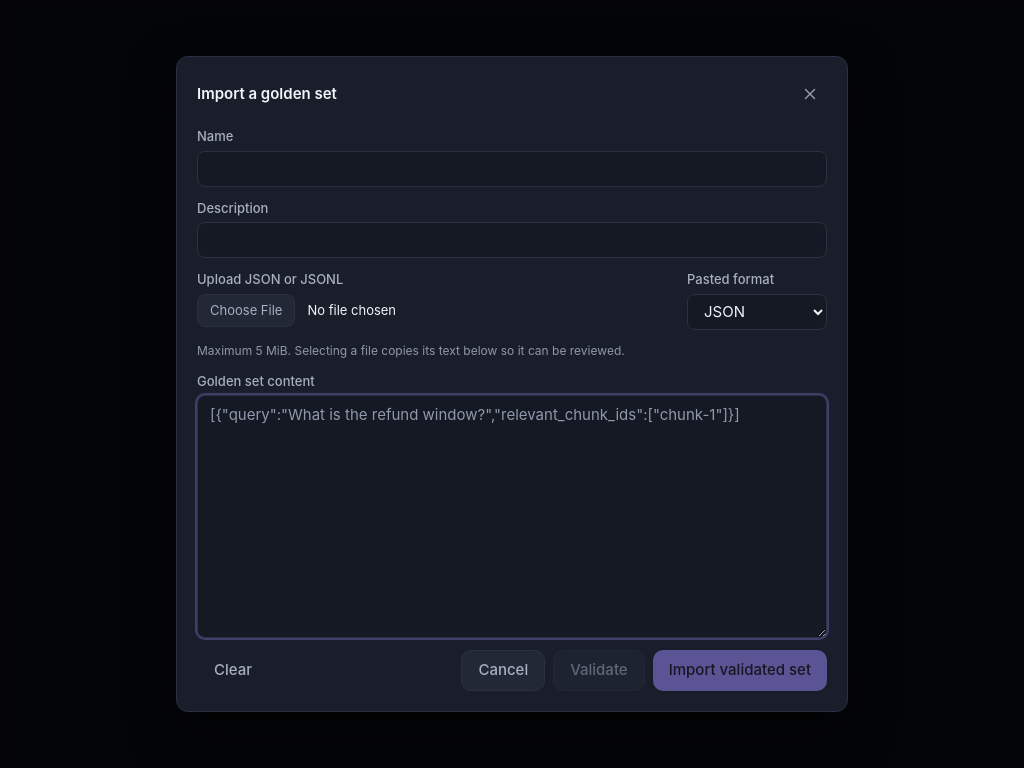
Test: GoldenSetImporter › shows chunk readiness and non-blocking file fallback warnings
Type keys "{}"
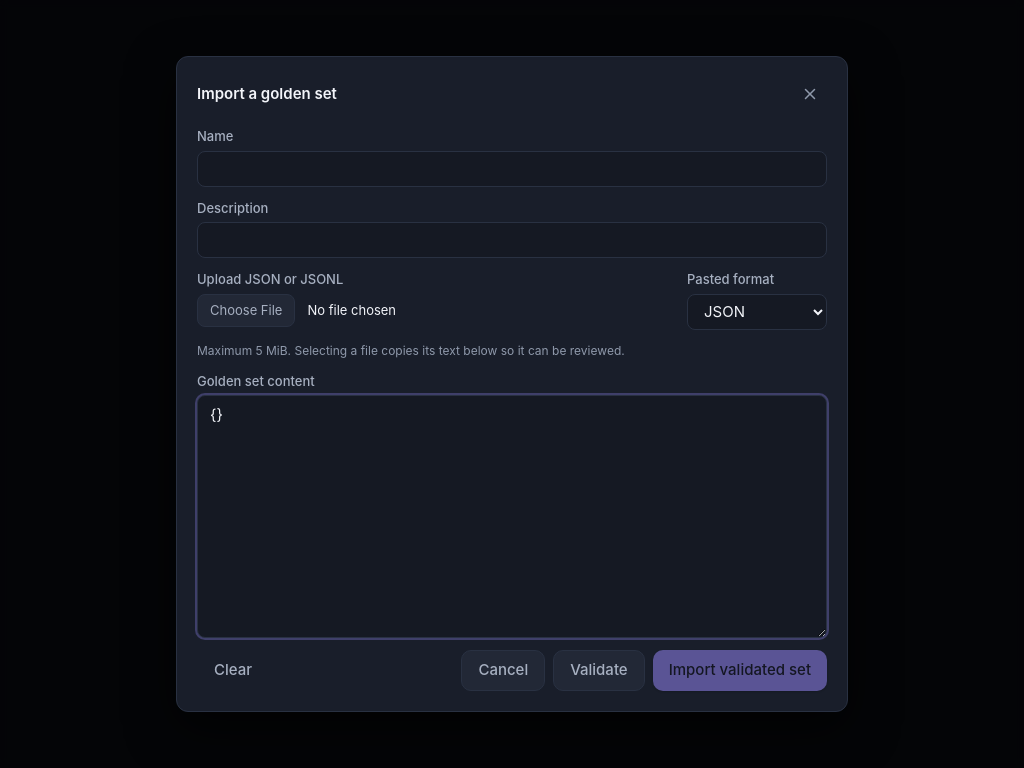
Click the button "Validate": [599, 671] box [553,650,645,691]
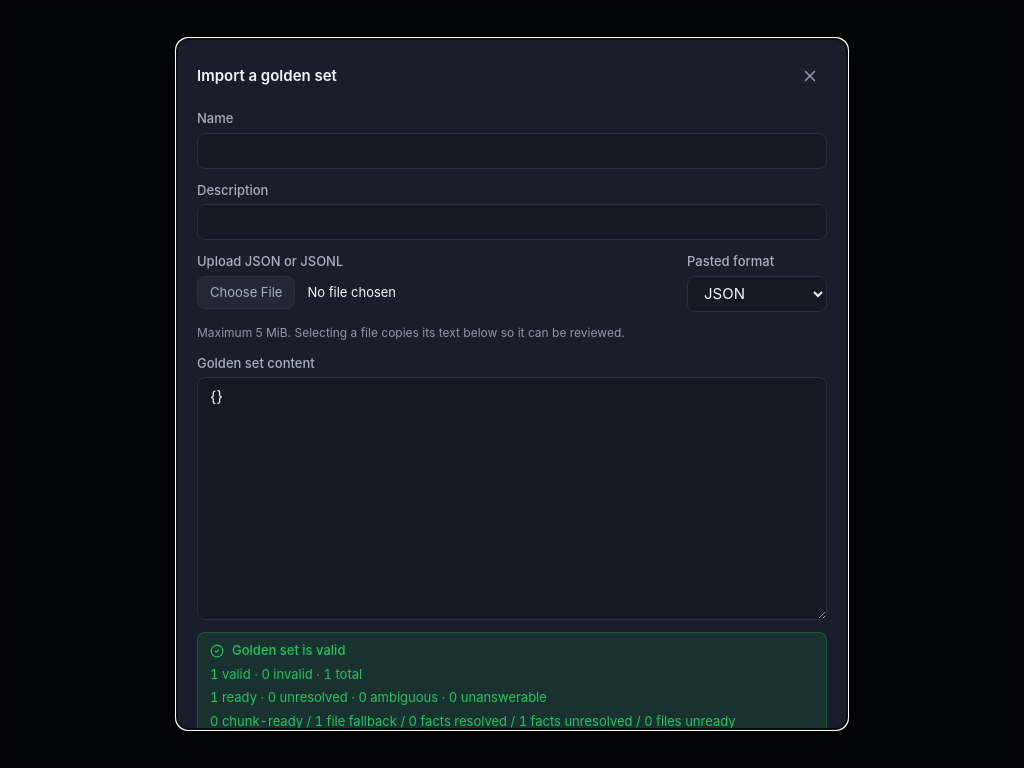
Now the text "0 chunk-ready / 1 file fallback" is shown, box [210,713,736,729]
Now the text "Golden set is valid" is shown, box [232,641,345,661]
